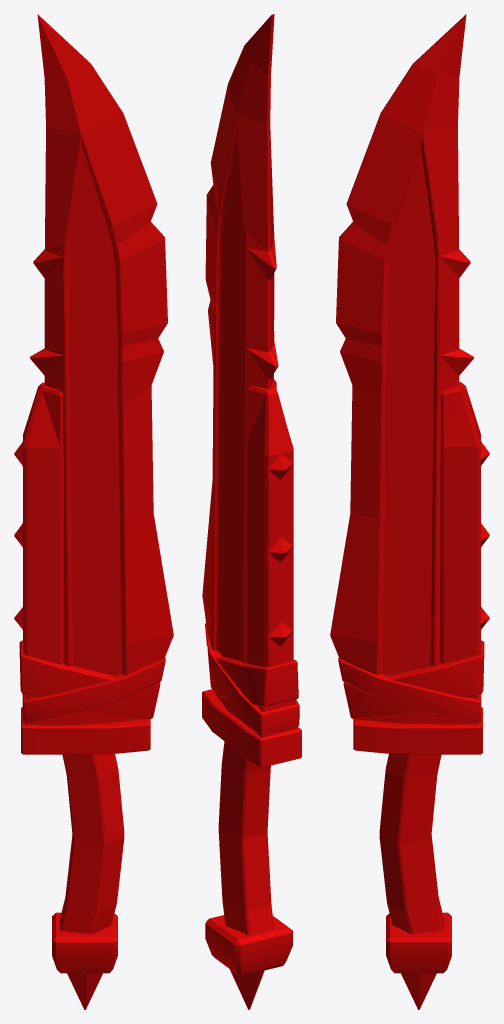
Rendered from Mod_Sword_Lv_2-5_Fixed.fbx.
3 renders of one model, left to right at view 1: azimuth 90°, elevation 25°; view 2: azimuth 210°, elevation 25°; view 3: azimuth 270°, elevation 25°, orthographic.
Visible parts, largest first — view 1: polySurface19; view 2: polySurface19; view 3: polySurface19.
Boxes of the visible parts, bbox=[...] form: polySurface19: bbox=[14, 14, 173, 1009]; polySurface19: bbox=[202, 14, 301, 1009]; polySurface19: bbox=[330, 14, 489, 1009].
Bounding box in the file's own units: 4.52 × 75.13 × 10.92.
